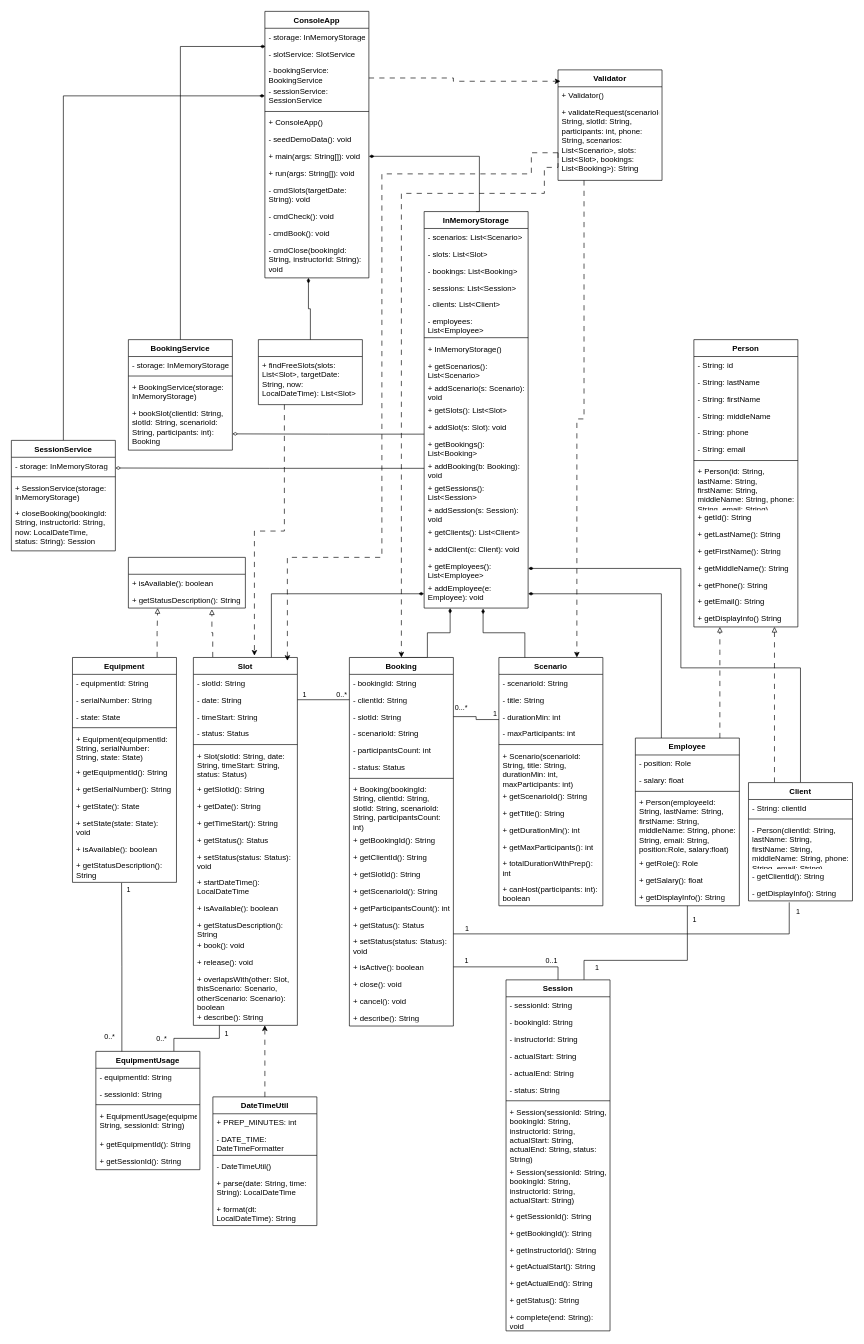
Some shapes in this 864 by 1344 pixel diagram are drawn without their labels. Here are the shapes that lost their labels. From the top down, the box of each, then its label:
(258, 339, 362, 405): SlotService
(128, 557, 245, 608): << interface >> StatusAware
